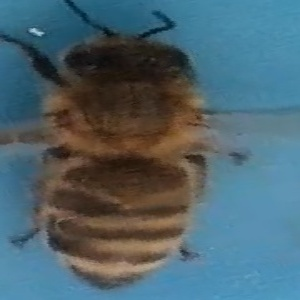bee: (12, 1, 243, 294)
